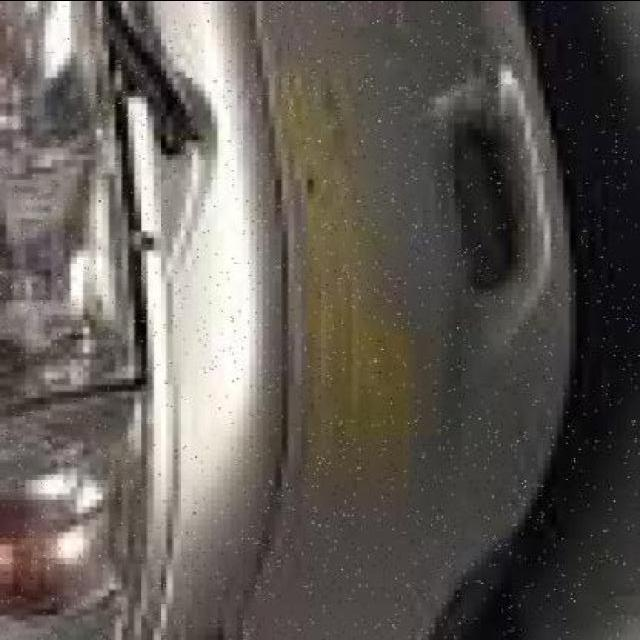front-bumper-dent: (116, 6, 622, 640)
